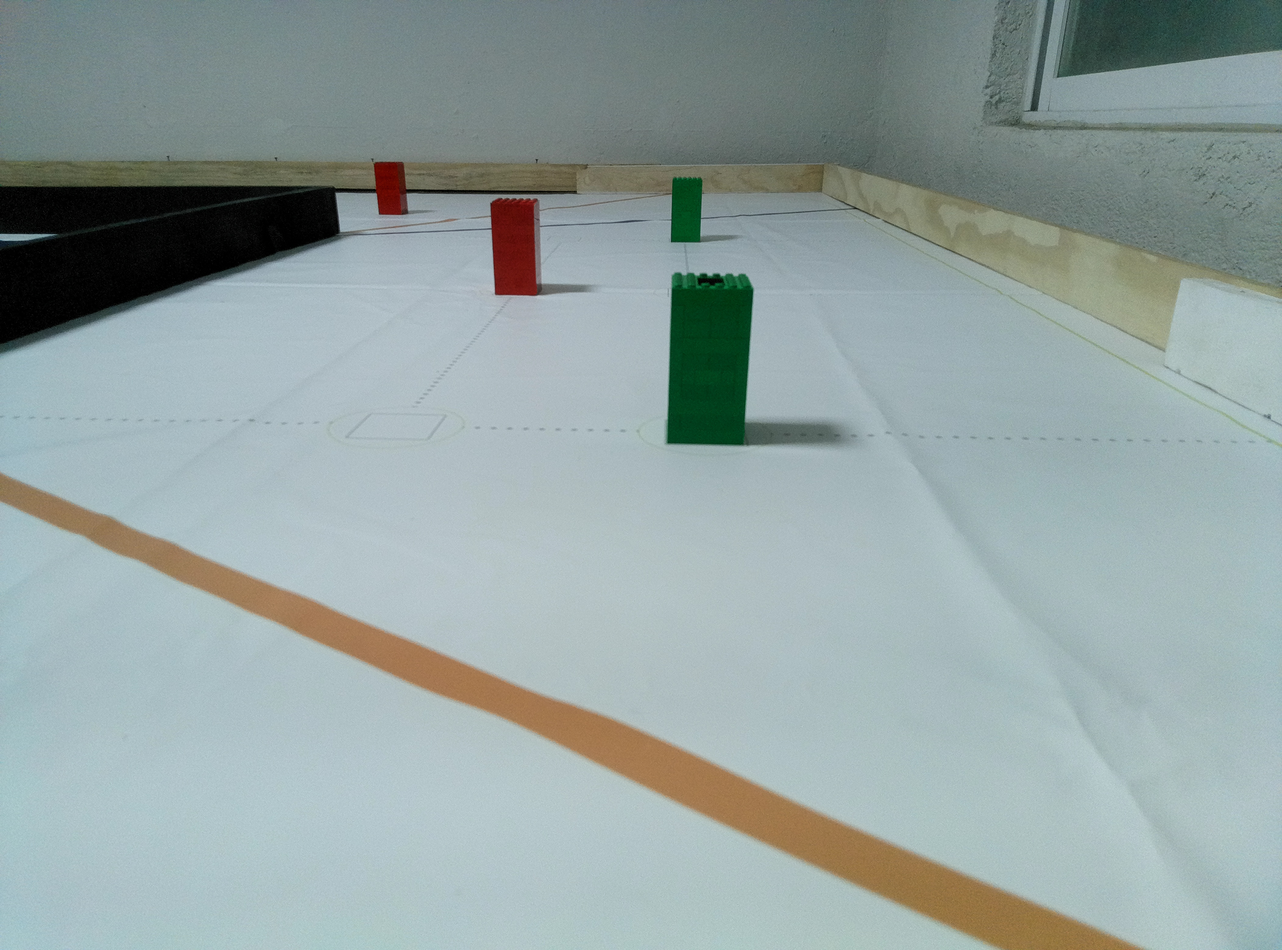greenbox: (664, 269, 756, 449), (670, 176, 703, 243)
redbox: (490, 197, 542, 298), (373, 161, 409, 216)
